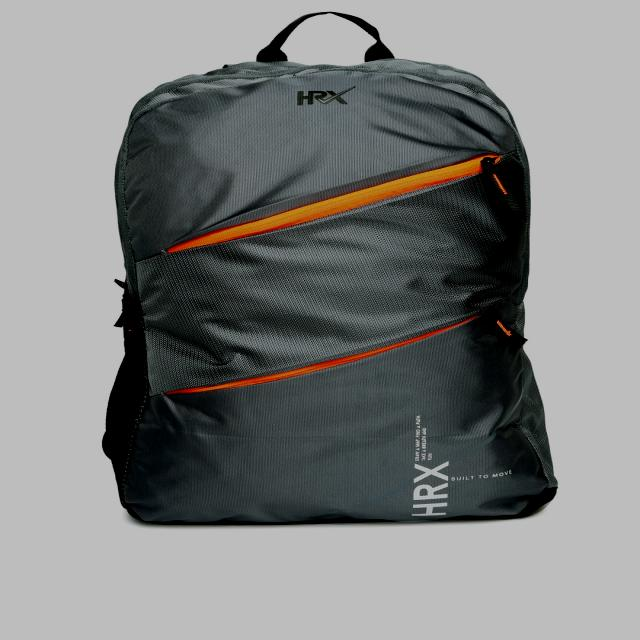backpack: (104, 12, 560, 526)
